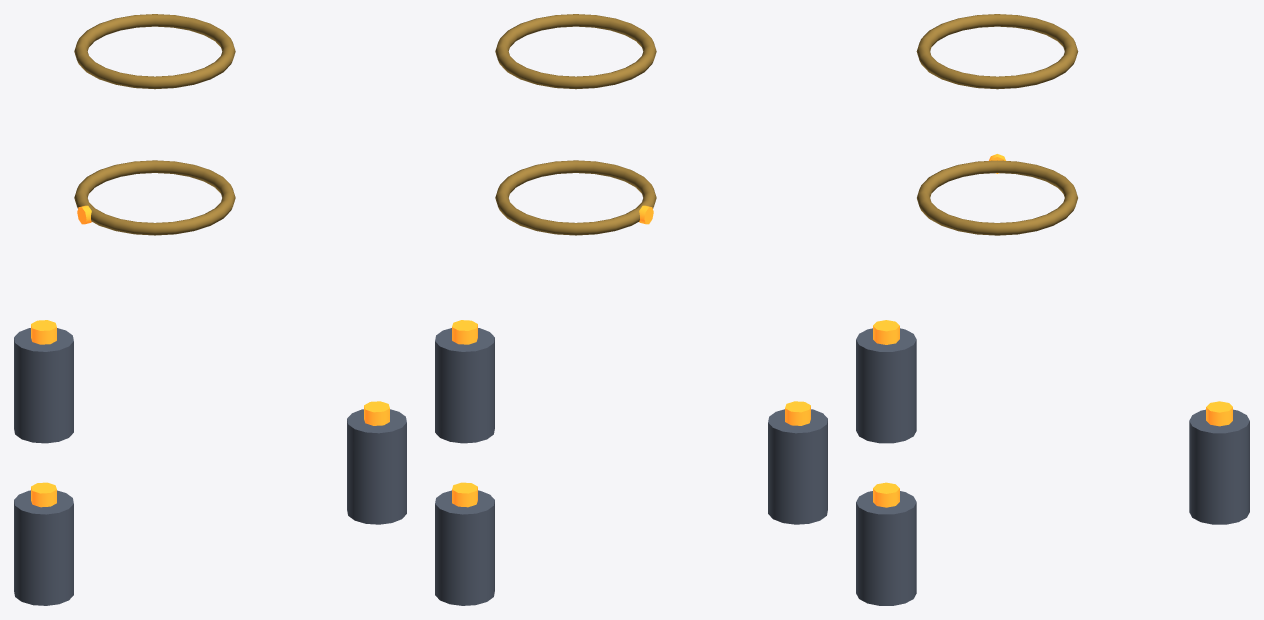
The model's file is tower_overclock_potency_s3.glb.
The picture shows the model from 3 angles, left to right: view 1: azimuth 30°, elevation 25°; view 2: azimuth 150°, elevation 25°; view 3: azimuth 270°, elevation 25°; orthographic projection.
Parts seen in each view (by area): view 1: overclock_cap0, overclock_cap1, overclock_cap2, overclock_conductor1.98, overclock_conductor1.5, overclock_cap_top0, overclock_cap_top1, overclock_cap_top2; view 2: overclock_cap1, overclock_cap2, overclock_cap0, overclock_conductor1.98, overclock_conductor1.5, overclock_cap_top1, overclock_cap_top2, overclock_cap_top0; view 3: overclock_cap2, overclock_cap1, overclock_cap0, overclock_conductor1.98, overclock_conductor1.5, overclock_cap_top0, overclock_cap_top1, overclock_cap_top2.
Part boxes in pixels (x1,y1,x2,y2): overclock_cap0: (14,328,73,443); overclock_cap1: (347,409,406,524); overclock_cap2: (14,490,73,605); overclock_conductor1.98: (74,14,235,89); overclock_conductor1.5: (74,160,235,235); overclock_cap_top0: (31,320,56,344); overclock_cap_top1: (364,401,389,425); overclock_cap_top2: (31,482,56,507); overclock_cap1: (435,328,494,443); overclock_cap2: (768,409,827,524); overclock_cap0: (435,490,494,605); overclock_conductor1.98: (495,14,656,89); overclock_conductor1.5: (495,160,656,235); overclock_cap_top1: (452,320,477,344); overclock_cap_top2: (785,401,810,425); overclock_cap_top0: (452,482,477,507); overclock_cap2: (856,328,916,443); overclock_cap1: (856,491,916,605); overclock_cap0: (1189,409,1249,524); overclock_conductor1.98: (916,14,1078,89); overclock_conductor1.5: (917,160,1077,235); overclock_cap_top0: (1206,401,1232,426); overclock_cap_top1: (873,482,899,507); overclock_cap_top2: (873,320,899,344).
Bounding box in the file's own units: 1.32 × 1.53 × 1.17.
